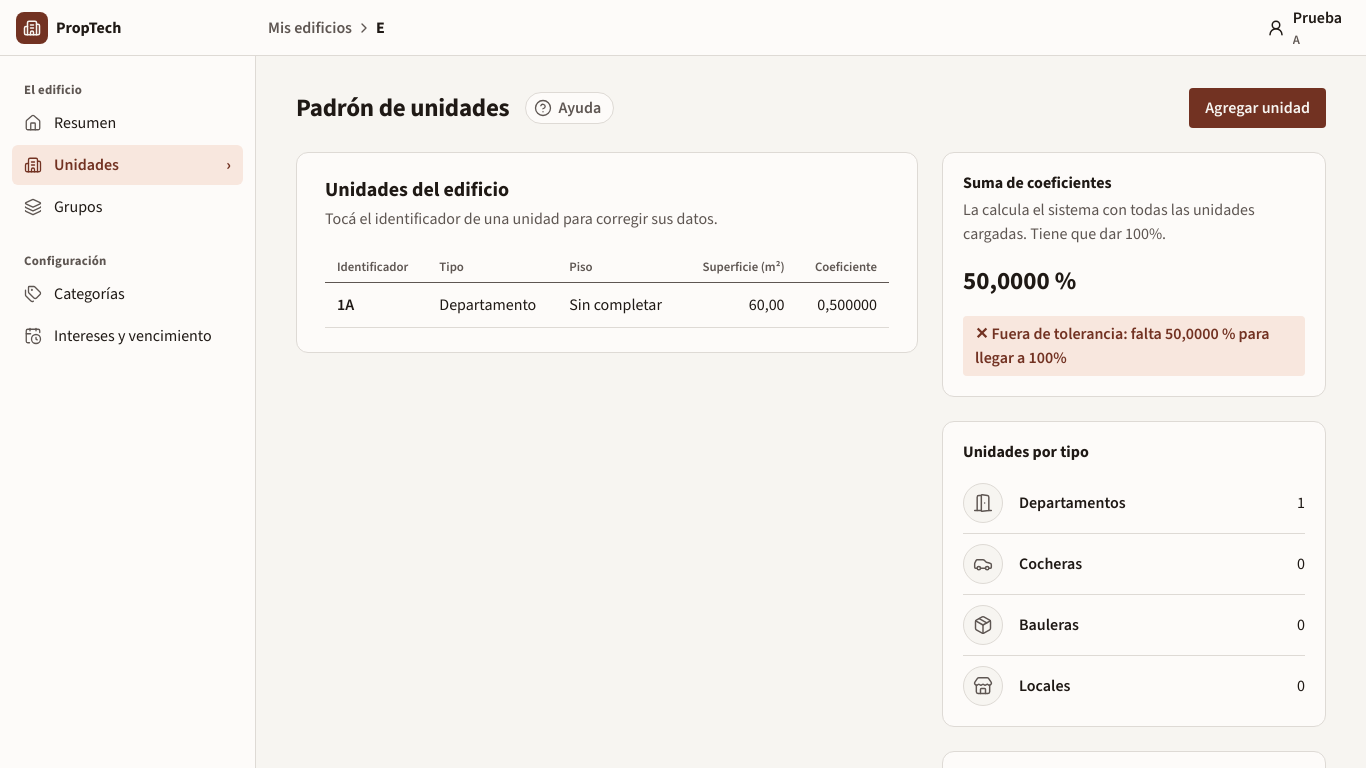
Test case: rompedor: unidad migrada con piso null queda en la opción vacía, no en la primera real
Click the button "1A".
click(346, 305)  # box [337,295,354,314]
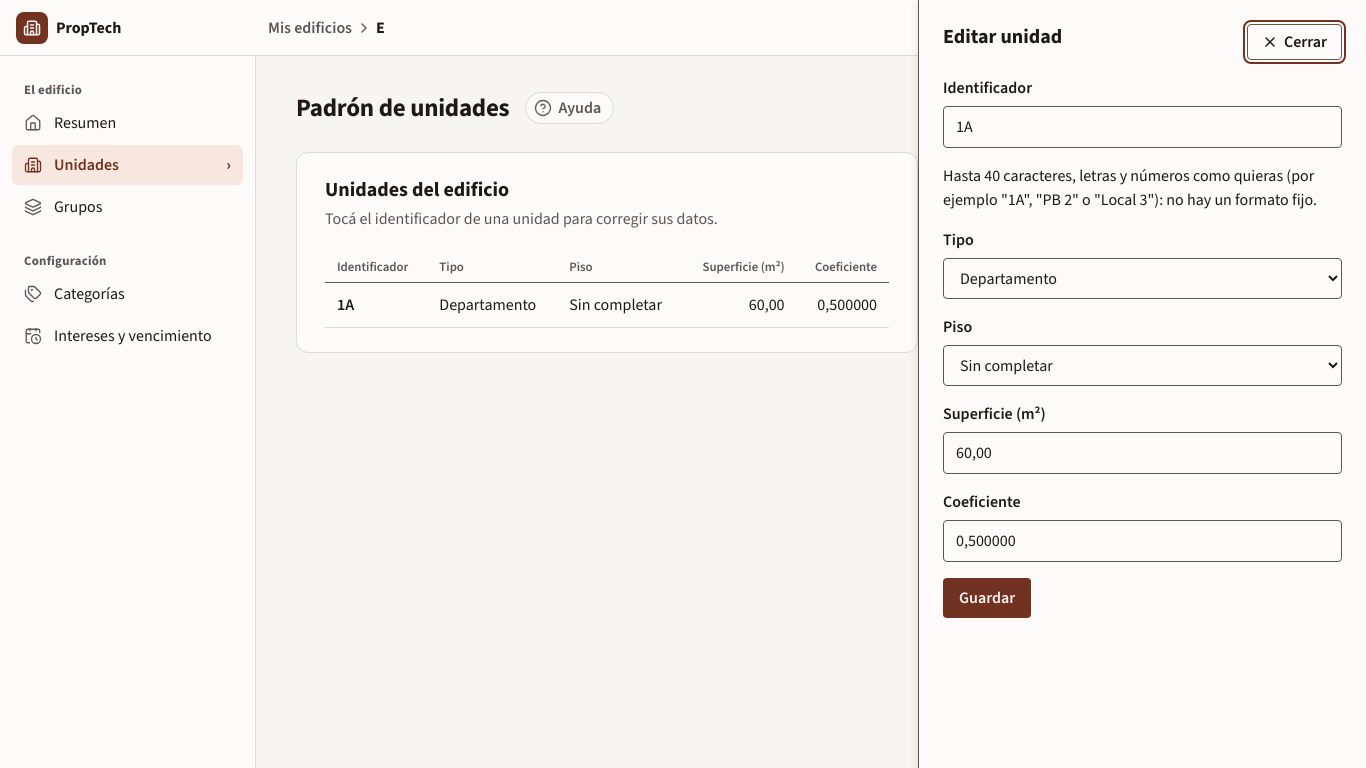
expect the dropdown labelled "Piso" shows "Sin completar": met, box [943,345,1342,386]
